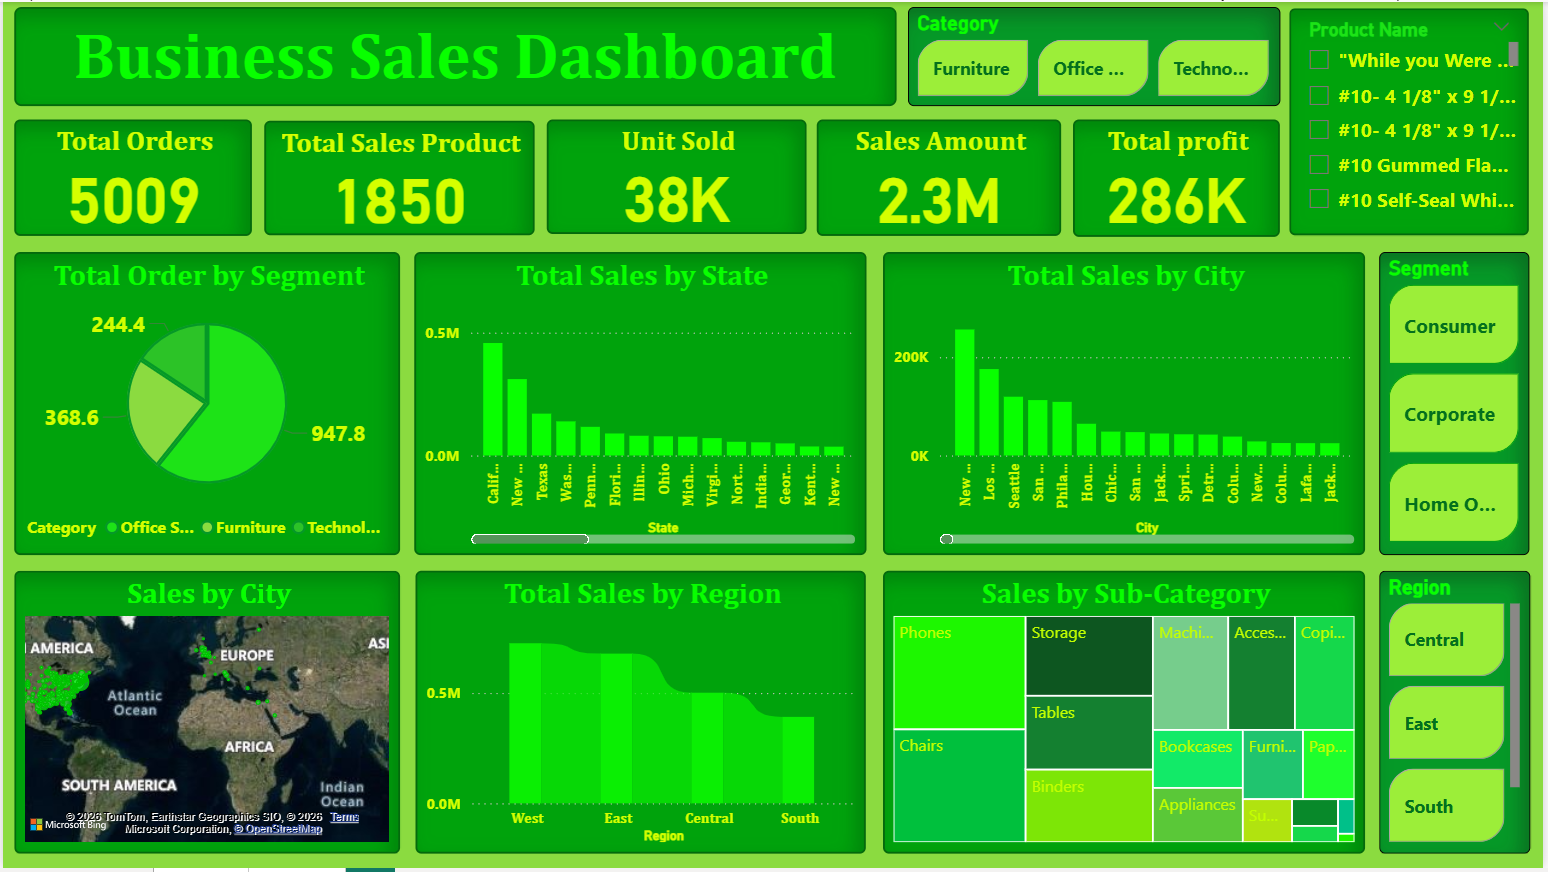

Layout of this report page (visuals, bound fields, positions):
{"tool":"powerbi","page":{"name":" Page 2","canvas":[1280,720],"ordinal":1},"visuals":[{"type":"card","title":"Total Orders","fields":{"Values":["Count(Sample - Superstore.Order ID)"]},"box":[9.3,97.7,197.7,96.5],"z":0},{"type":"card","title":"Unit Sold","fields":{"Values":["Sum(Sample - Superstore.Quantity)"]},"box":[452.3,97.7,216.3,95.3],"z":1000},{"type":"card","title":"Total profit","fields":{"Values":["Sum(Sample - Superstore.Profit)"]},"box":[889.8,97.3,171.7,97.3],"z":2000},{"type":"card","title":"Sales Amount","fields":{"Values":["Sum(Sample - Superstore.Sales)"]},"box":[676.7,97.7,203.5,96.5],"z":3000},{"type":"pieChart","title":"Total Order by Segment","fields":{"Category":["Sample - Superstore.Category"],"Y":["Sum(Sample - Superstore.Discount)"]},"box":[9.3,208.1,320.9,252.3],"z":4000},{"type":"textbox","box":[9.3,4.7,733.7,82.6],"z":5000},{"type":"columnChart","title":"Total Sales by State","fields":{"Y":["Sum(Sample - Superstore.Sales)"],"Category":["Sample - Superstore.State"]},"box":[342.2,207.7,375.8,252.2],"z":6000},{"type":"columnChart","title":"Total Sales by City","fields":{"Y":["Sum(Sample - Superstore.Sales)"],"Category":["Sample - Superstore.City"]},"box":[731.3,207.7,401.1,252.2],"z":7000},{"type":"map","title":"Sales by City","fields":{"Size":["Sum(Sample - Superstore.Sales)"],"Category":["Sample - Superstore.City"]},"box":[9.3,473.3,320.9,234.9],"z":8000},{"type":"treemap","title":"Sales by Sub-Category","fields":{"Group":["Sample - Superstore.Sub-Category"],"Values":["Sum(Sample - Superstore.Sales)"]},"box":[731.4,473.3,401.2,234.9],"z":9000},{"type":"slicer","fields":{"Values":["Sample - Superstore.Product Name"]},"box":[1069.9,4.8,199.3,188.5],"z":10000},{"type":"advancedSlicerVisual","fields":{"Values":["Sample - Superstore.Category"]},"box":[752.3,4.7,309.3,82.6],"z":11000},{"type":"advancedSlicerVisual","fields":{"Values":["Sample - Superstore.Region"]},"box":[1144.2,473.3,125.6,234.9],"z":12000},{"type":"advancedSlicerVisual","fields":{"Values":["Sample - Superstore.Segment"]},"box":[1144.3,207.7,124.9,252.2],"z":13000},{"type":"ribbonChart","title":"Total Sales by Region","fields":{"Category":["Sample - Superstore.Region"],"Y":["Sum(Sample - Superstore.Sales)"]},"box":[343.4,473.1,374.6,235.3],"z":14000},{"type":"card","title":"Total Sales Product","fields":{"Values":["Count(Sample - Superstore.Product Name)"]},"box":[217.4,98.8,224.4,95.3],"z":16000}]}

Visuals, with their boxes in screenshot pixels (x1, y1, x2, y2), scaled from the page's 1280x720 canvas onto the 1548x872 screenshot:
"Total Orders" card: left=11, top=118, right=250, bottom=235
"Unit Sold" card: left=547, top=118, right=809, bottom=234
"Total profit" card: left=1076, top=118, right=1284, bottom=236
"Sales Amount" card: left=818, top=118, right=1064, bottom=235
"Total Order by Segment" pieChart: left=11, top=252, right=399, bottom=558
textbox: left=11, top=6, right=899, bottom=106
"Total Sales by State" columnChart: left=414, top=252, right=868, bottom=557
"Total Sales by City" columnChart: left=884, top=252, right=1369, bottom=557
"Sales by City" map: left=11, top=573, right=399, bottom=858
"Sales by Sub-Category" treemap: left=885, top=573, right=1370, bottom=858
slicer - Sample - Superstore.Product Name: left=1294, top=6, right=1535, bottom=234
advancedSlicerVisual - Sample - Superstore.Category: left=910, top=6, right=1284, bottom=106
advancedSlicerVisual - Sample - Superstore.Region: left=1384, top=573, right=1536, bottom=858
advancedSlicerVisual - Sample - Superstore.Segment: left=1384, top=252, right=1535, bottom=557
"Total Sales by Region" ribbonChart: left=415, top=573, right=868, bottom=858
"Total Sales Product" card: left=263, top=120, right=534, bottom=235
